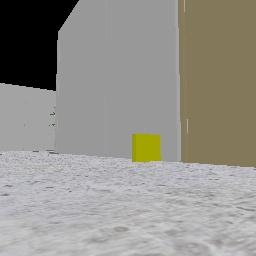galben: (132, 134, 161, 161)
